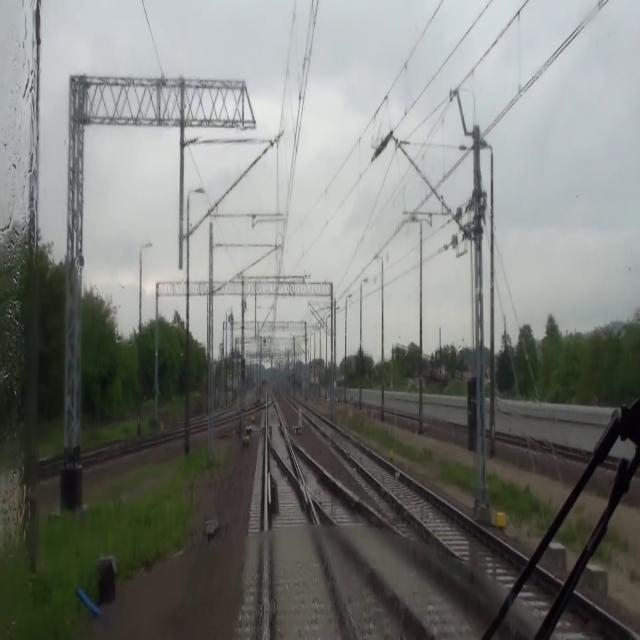rail-track: (295, 447, 476, 639), (308, 412, 491, 577), (268, 444, 354, 639), (269, 404, 292, 466)
